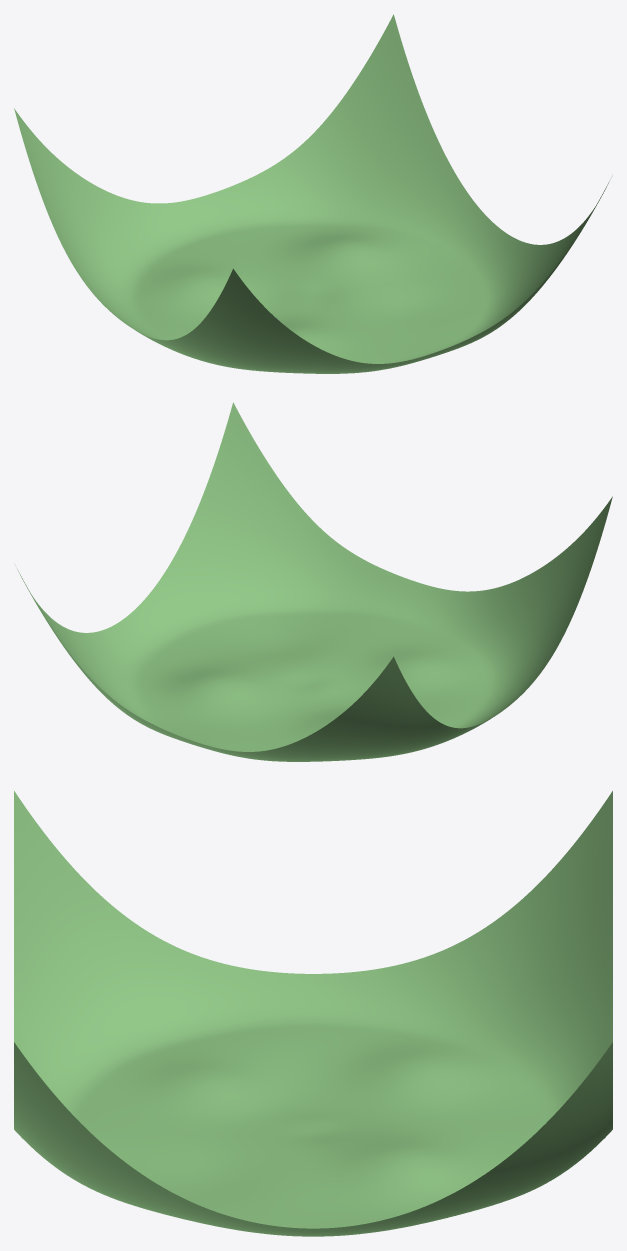
Rendered from terrain.dae.
The picture shows the model from 3 angles, top to bottom: view 1: azimuth 30°, elevation 25°; view 2: azimuth 150°, elevation 25°; view 3: azimuth 270°, elevation 25°; orthographic projection. The views are drawn at different scales.
Visible parts, largest first — view 1: Terrain; view 2: Terrain; view 3: Terrain.
Boxes of the visible parts, box(x1,y1,x2,y2) form: Terrain: box(14, 14, 609, 373); Terrain: box(17, 402, 612, 761); Terrain: box(14, 791, 612, 1236).
Size of the model in its own units: 90 by 90 by 36.31.
